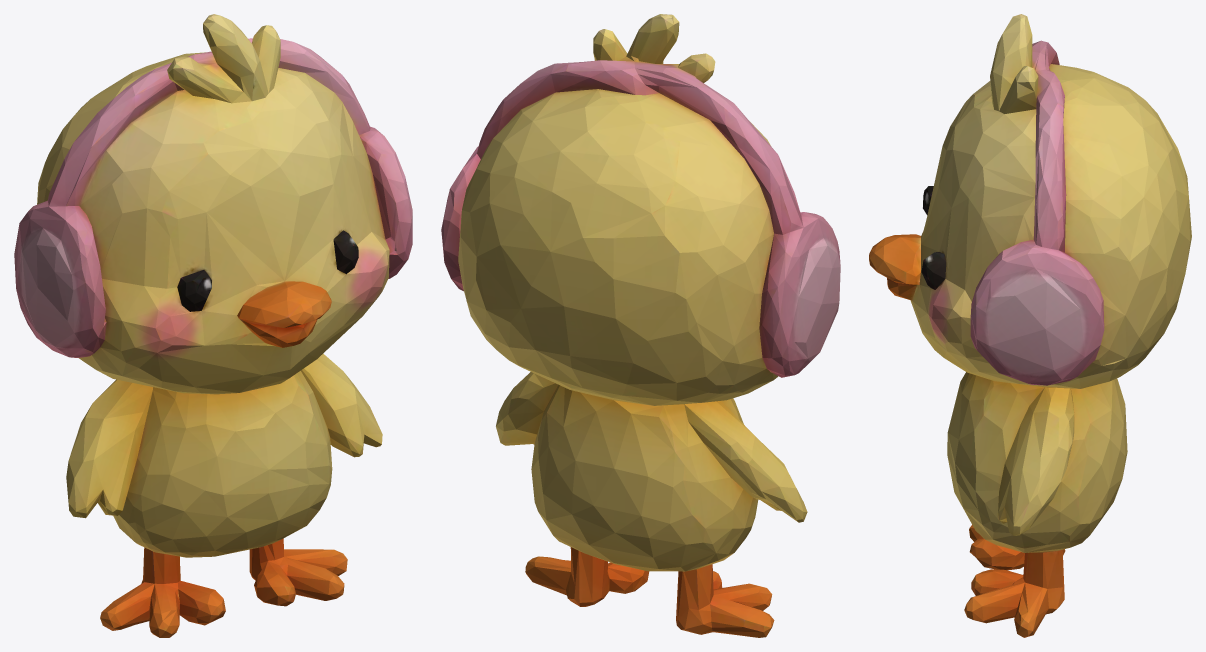
The model's file is popo.glb.
3 views of the same model, side by side, from view 1: azimuth 30°, elevation 25°; view 2: azimuth 150°, elevation 25°; view 3: azimuth 270°, elevation 25° (orthographic). The views are drawn at different scales.
Parts seen in each view (by area): view 1: geometry_0; view 2: geometry_0; view 3: geometry_0.
Part boxes in pixels (x1,y1,x2,y2): geometry_0: [14, 14, 412, 637]; geometry_0: [441, 14, 840, 637]; geometry_0: [869, 14, 1191, 637].
Size of the model in its own units: 0.6235 by 0.9997 by 0.5183.
1 material, 1 textured.
